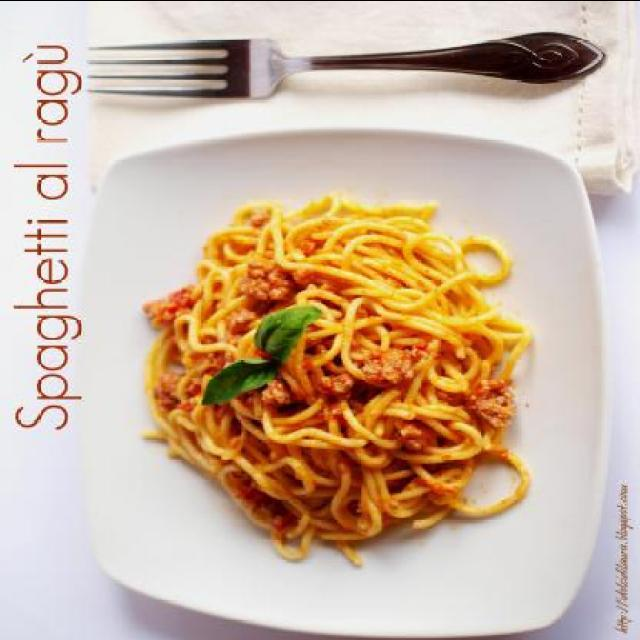Pasta al ragu: (109, 178, 540, 566)
